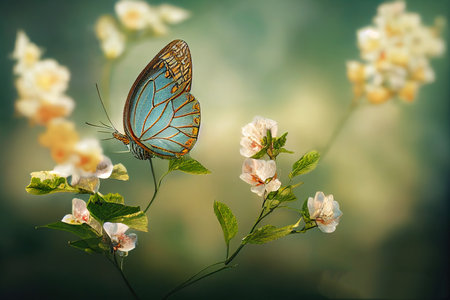Butterfly: (91, 35, 209, 163)
